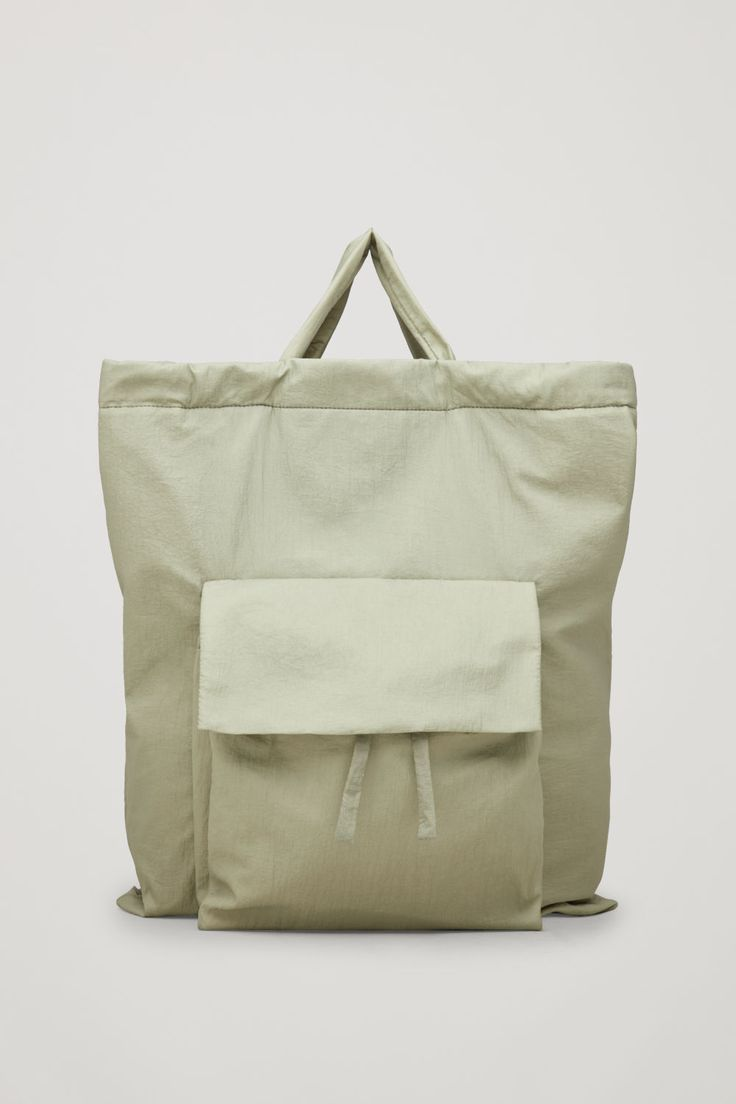nylon: (97, 229, 639, 935)
